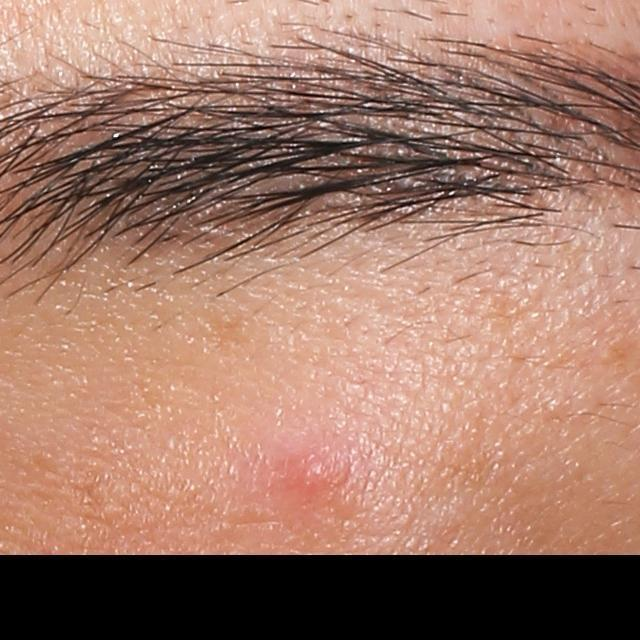papule: (291, 441, 348, 502)
